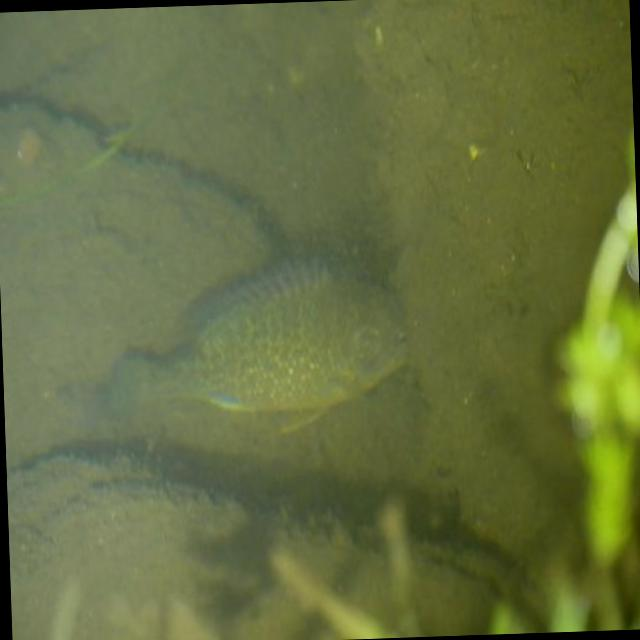Gunes Levregi: (102, 260, 424, 443)
